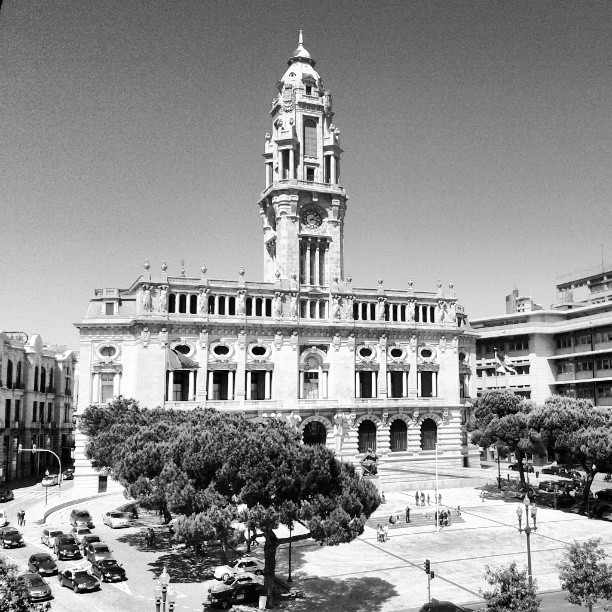camara: (70, 28, 482, 497)
